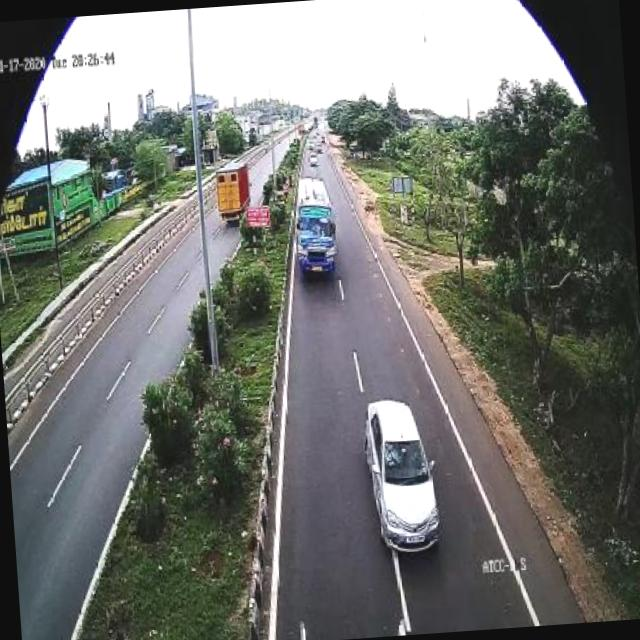car: (358, 394, 446, 556)
